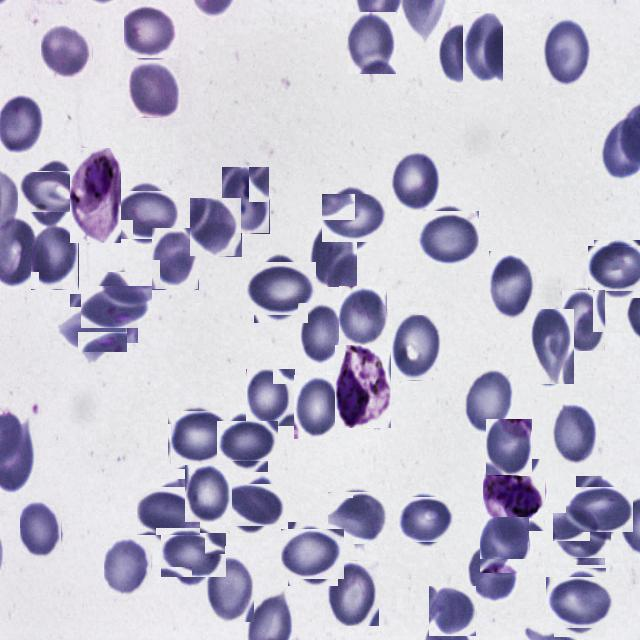red blood cell: (250, 258, 312, 320), (464, 543, 522, 606), (418, 208, 478, 268), (550, 572, 610, 632), (541, 19, 593, 87), (325, 561, 379, 626), (462, 368, 514, 434), (170, 408, 228, 467), (489, 251, 538, 320), (64, 300, 122, 358), (309, 217, 357, 287), (284, 525, 342, 582), (326, 190, 384, 247), (392, 315, 442, 381), (88, 279, 145, 336), (570, 482, 628, 538), (531, 309, 574, 384), (222, 167, 270, 234), (140, 483, 197, 539), (126, 60, 181, 118), (206, 556, 254, 622), (330, 490, 386, 546), (119, 187, 175, 243), (31, 226, 79, 290), (190, 198, 242, 257), (167, 527, 221, 583), (41, 22, 93, 80), (550, 402, 598, 464), (348, 12, 396, 74), (24, 164, 78, 219), (294, 375, 340, 439), (339, 286, 387, 347), (125, 5, 179, 59), (152, 228, 199, 290), (246, 369, 296, 427), (392, 152, 440, 212), (480, 517, 530, 574), (463, 13, 503, 84), (104, 537, 152, 596), (185, 465, 233, 523), (562, 289, 606, 352), (556, 509, 608, 562), (228, 479, 280, 531), (298, 303, 342, 364), (401, 494, 452, 546), (486, 419, 532, 476), (222, 416, 273, 467), (591, 243, 640, 296), (440, 23, 481, 84), (429, 586, 477, 636), (20, 502, 62, 558)
schizont: (483, 459, 545, 531)
trophozoite: (70, 148, 121, 243), (335, 345, 391, 428)
